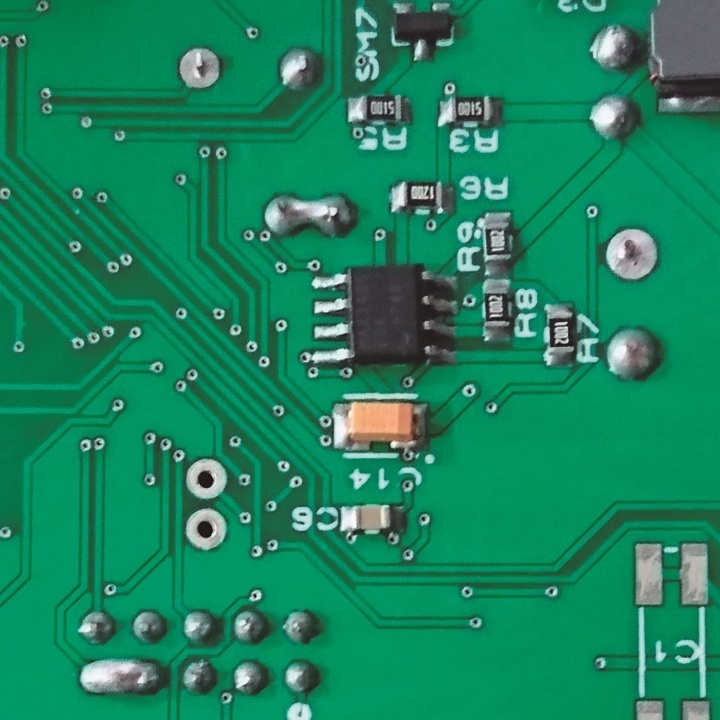F: (601, 224, 660, 284), (175, 43, 224, 94), (184, 506, 233, 555), (187, 457, 230, 500)
P: (259, 192, 357, 239), (75, 652, 164, 701)
